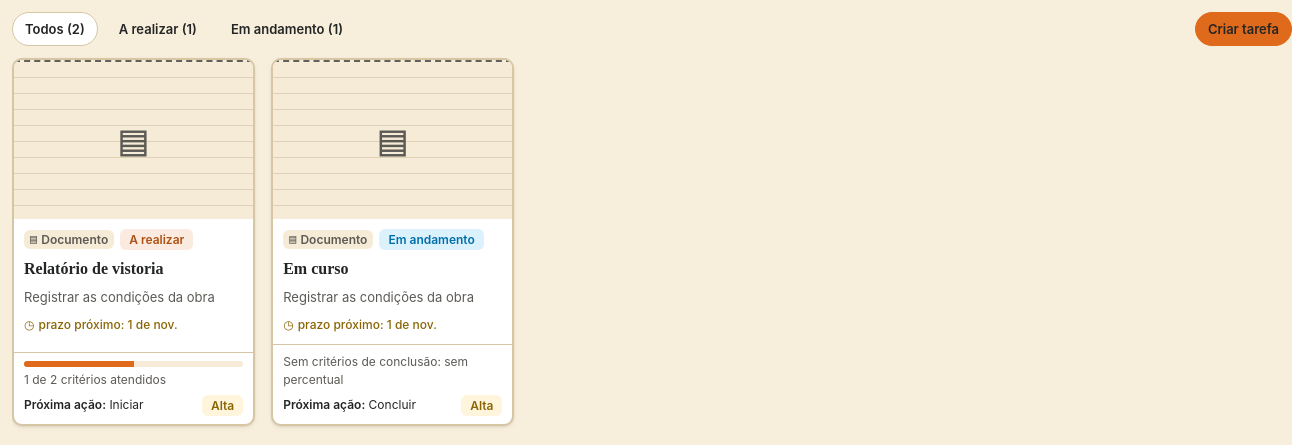
it: Minhas tarefas e detalhe (RF41) › card mostra tipo, objetivo, estado padronizado, progresso e próxima ação; filtro por estado
The width and height of the screenshot is (1292, 445).
Expected: the number of elements with test id "persisted-task-card" is 2, x1=12 y1=58 x2=255 y2=426; x1=271 y1=58 x2=514 y2=426
Expected: the element with test id "persisted-task-card" shows "A realizar", x1=129 y1=232 x2=184 y2=248
Step 1. Click the button "Em andamento (1)" → (287, 29), box x1=218 y1=12 x2=356 y2=46
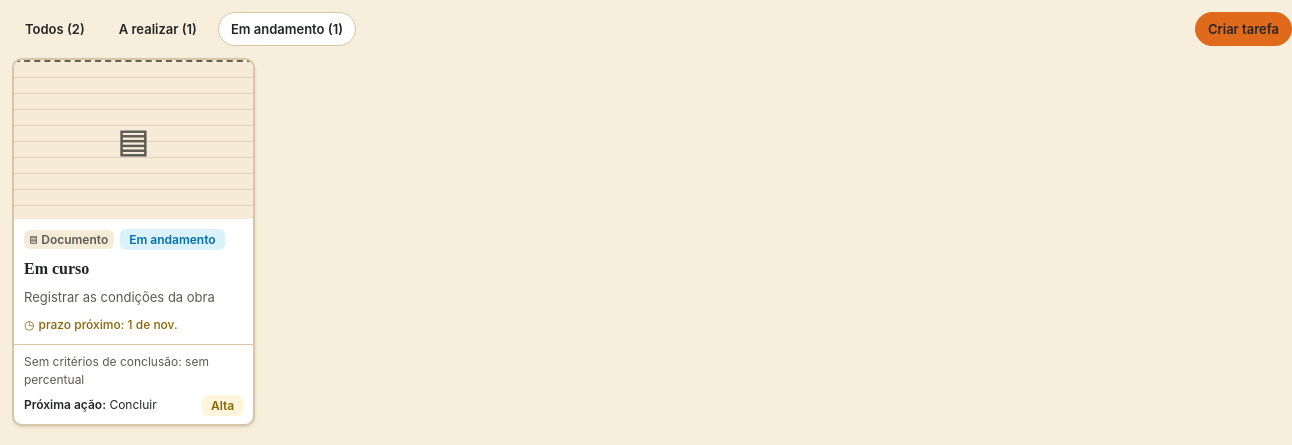
Expected: the number of elements with test id "persisted-task-card" is 1, x1=12 y1=58 x2=255 y2=426
